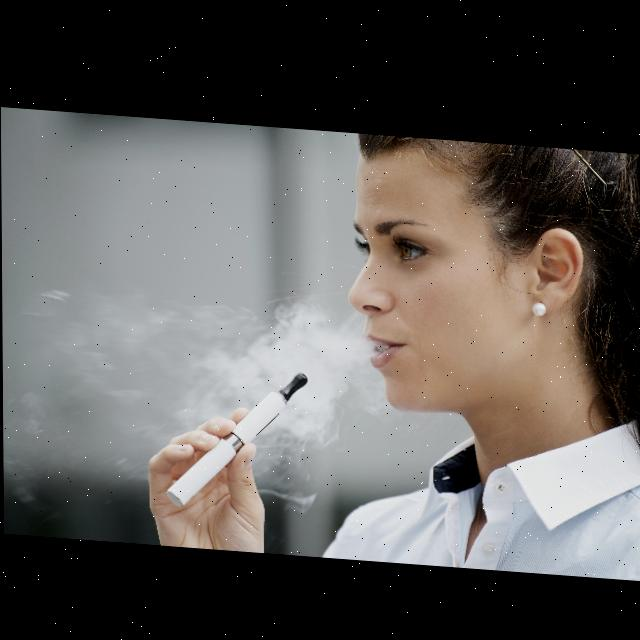vape: (166, 359, 309, 511)
